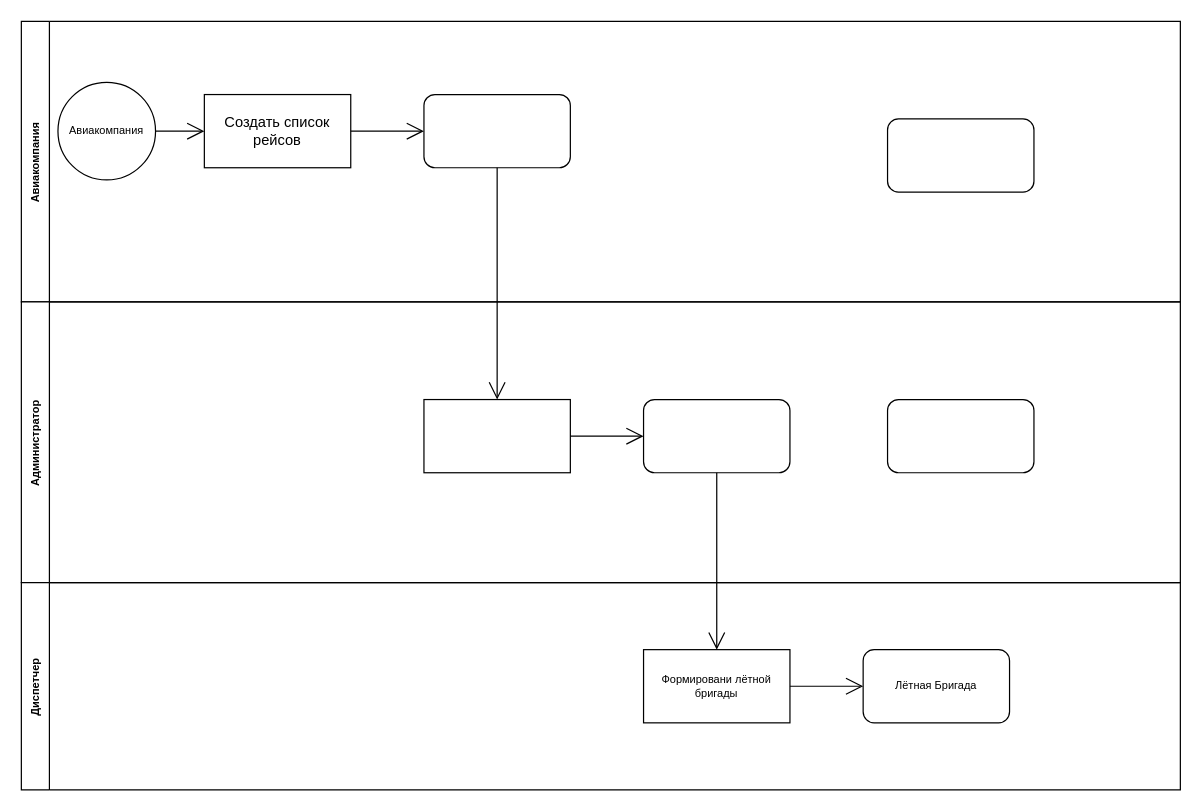
The diagram is 1202 pixels wide and 811 high, and some of its shapes have lost their labels. The box of each missing label's shape, as (x1, y1, x2, y2) in pixels:
Рейс: (642, 398, 790, 473)
Создать рейс: (423, 398, 570, 473)
Список рейсов: (423, 93, 570, 168)
